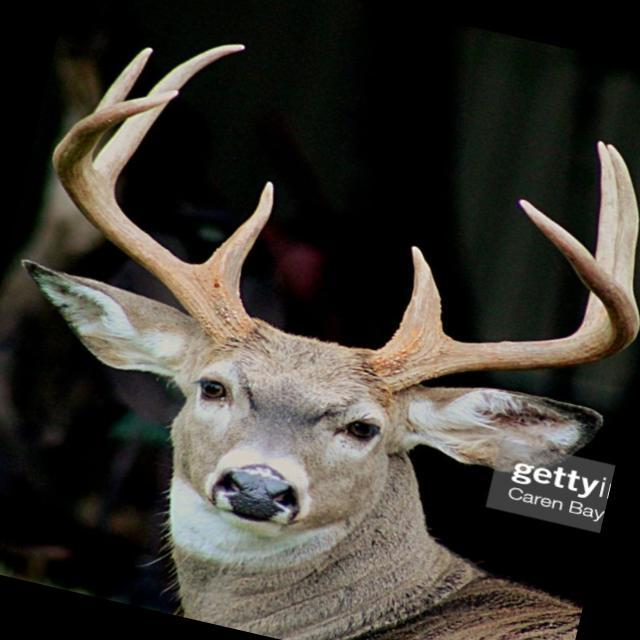L-F: (364, 198, 640, 394)
L-G1: (391, 244, 447, 341)
R-F: (52, 90, 254, 349)
R-G1: (201, 180, 274, 289)
